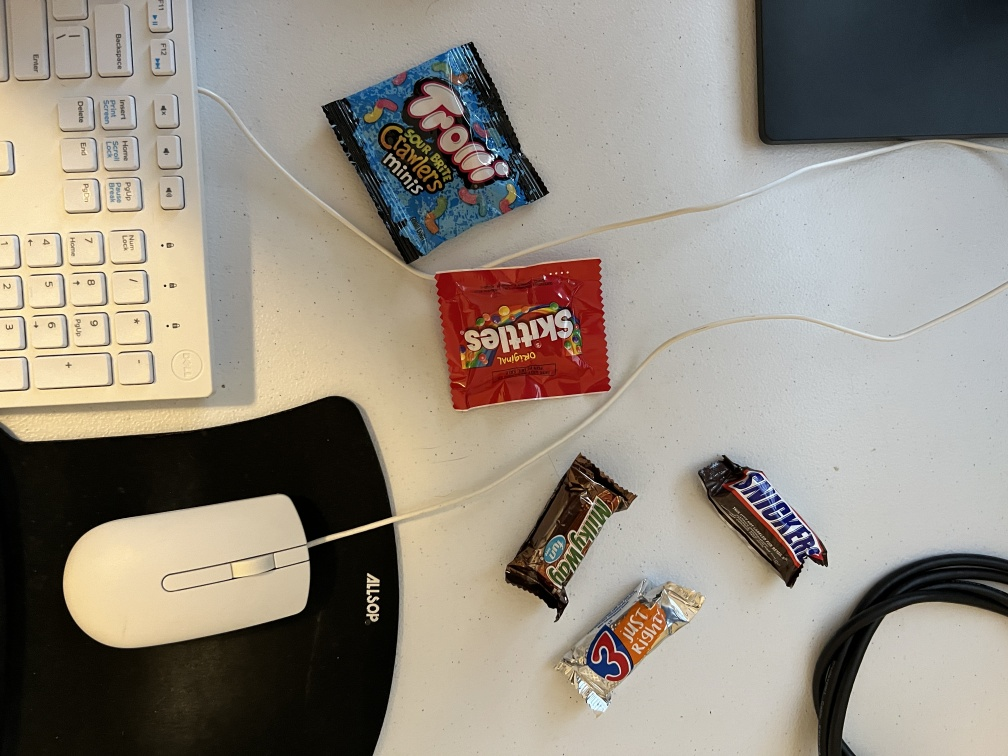gummy_worms: (302, 66, 578, 260)
milky_way: (505, 440, 619, 620)
snickers: (682, 431, 885, 612), (417, 271, 654, 415)
three_musketeers: (561, 577, 709, 710)
